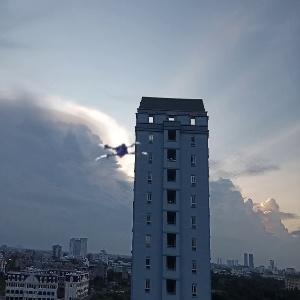drone: (95, 131, 148, 184)
